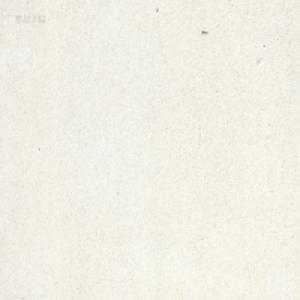Nail: (201, 28, 208, 34)
